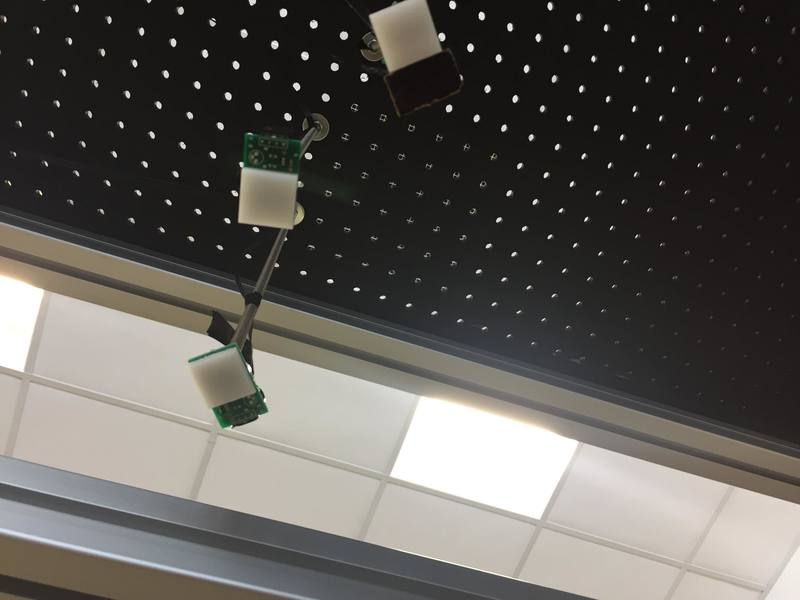target: (369, 2, 445, 76), (186, 347, 258, 410), (238, 168, 296, 228)
